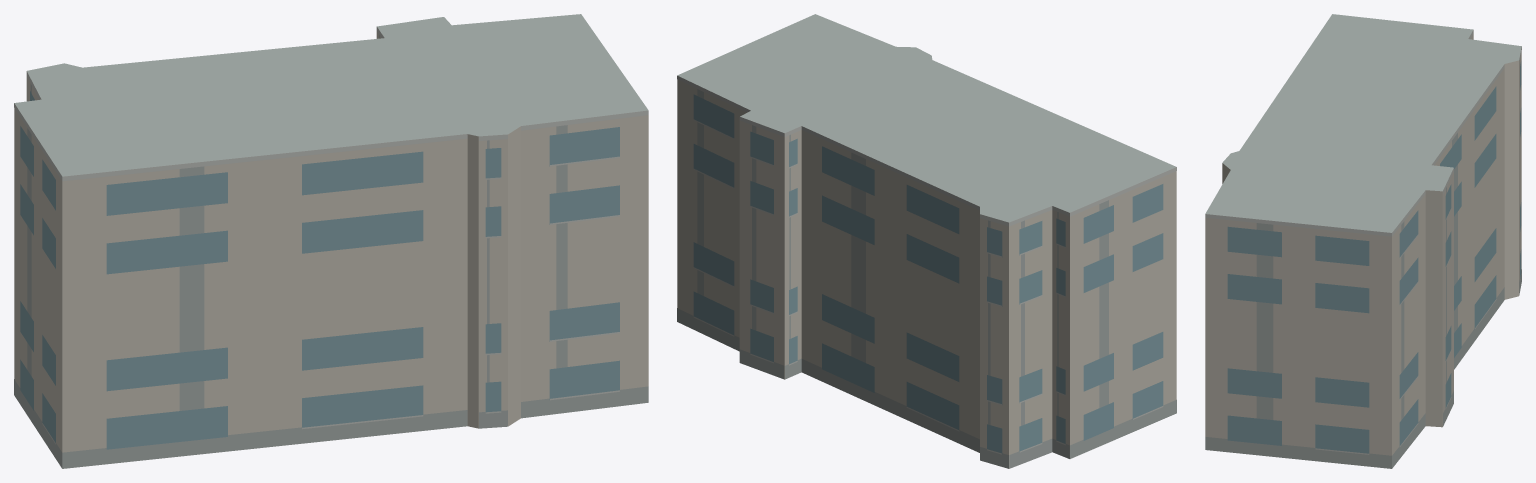
The model's file is survey-upis-32798633.glb.
3 renders of one model, left to right at view 1: azimuth 30°, elevation 25°; view 2: azimuth 150°, elevation 25°; view 3: azimuth 270°, elevation 25°, orthographic. The views are drawn at different scales.
Parts seen in each view (by area): view 1: survey-upis-32798633.tmp; view 2: survey-upis-32798633.tmp; view 3: survey-upis-32798633.tmp.
Part boxes in pixels (bbox=[...]): survey-upis-32798633.tmp: bbox=[14, 14, 648, 468]; survey-upis-32798633.tmp: bbox=[677, 14, 1176, 468]; survey-upis-32798633.tmp: bbox=[1205, 14, 1521, 468].
Bounding box in the file's own units: 30.36 × 15.25 × 18.56.
